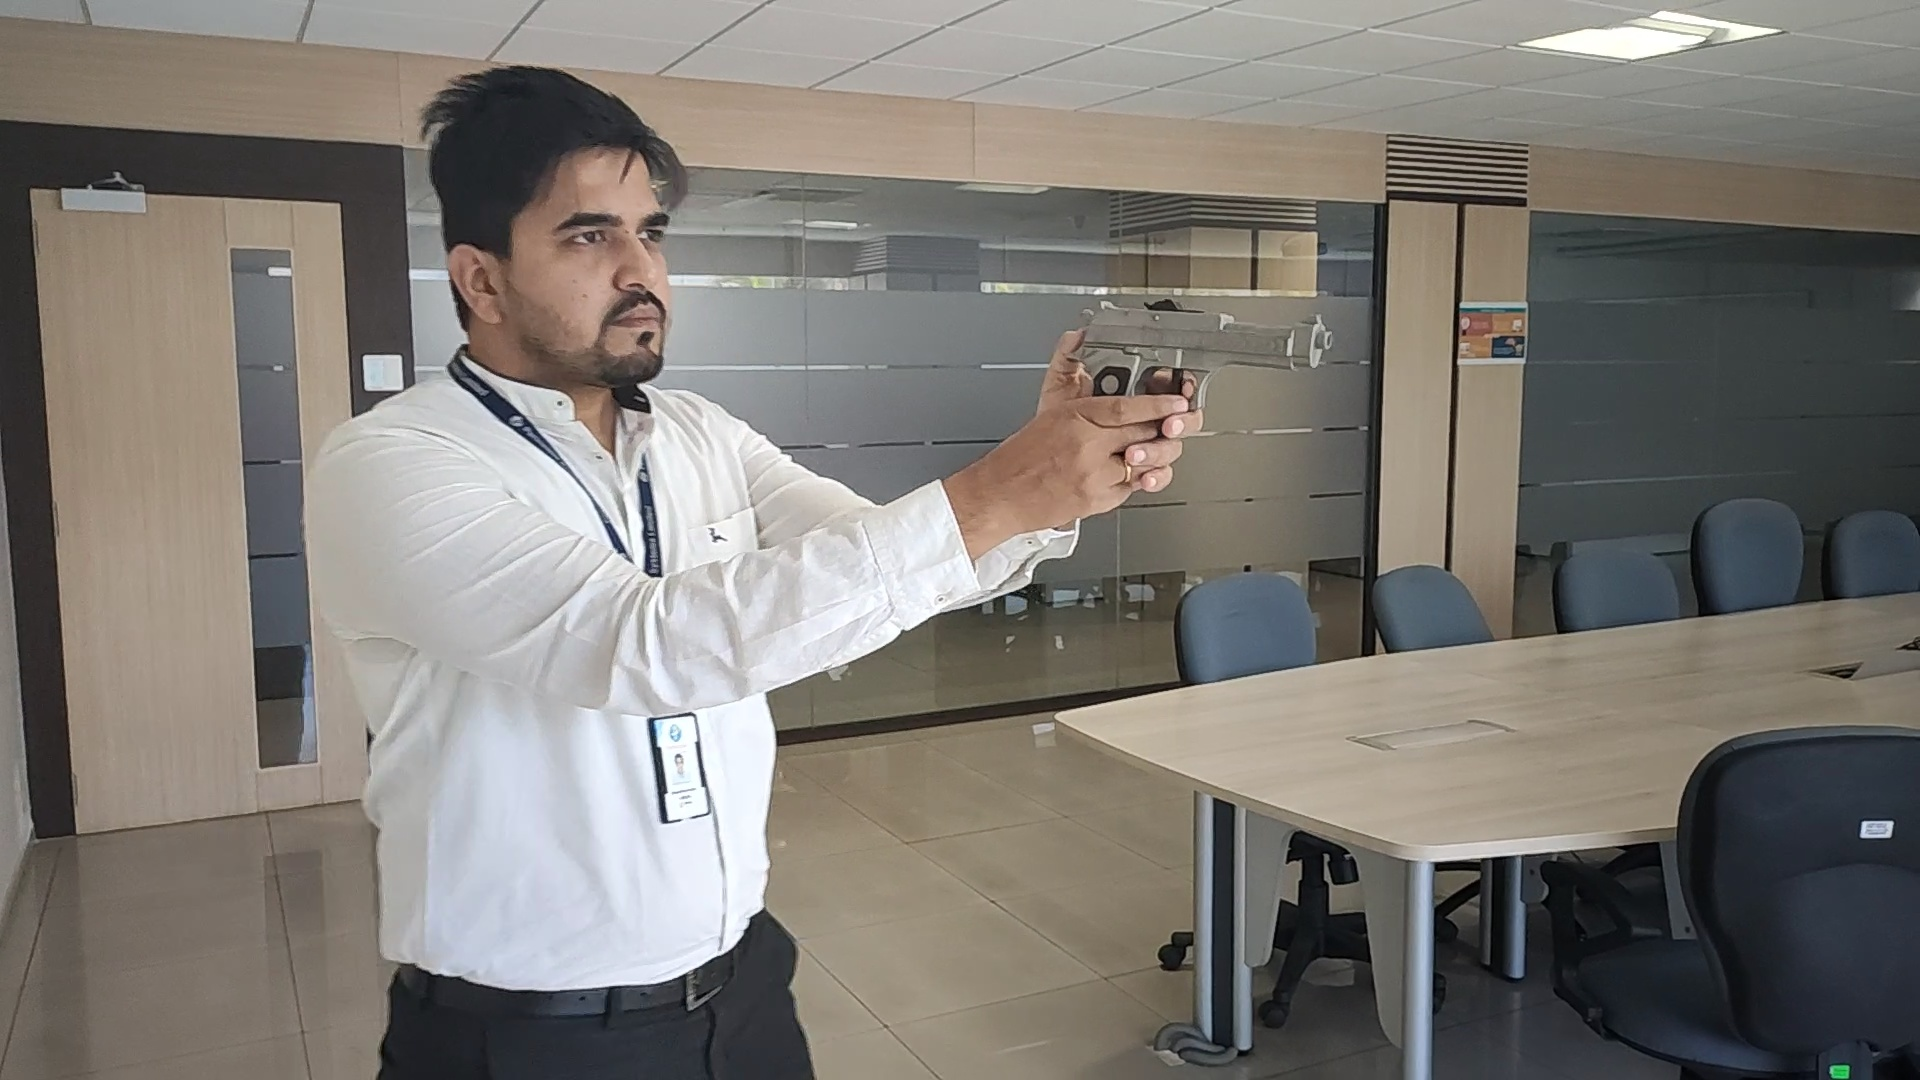gun: (1084, 297, 1335, 404)
